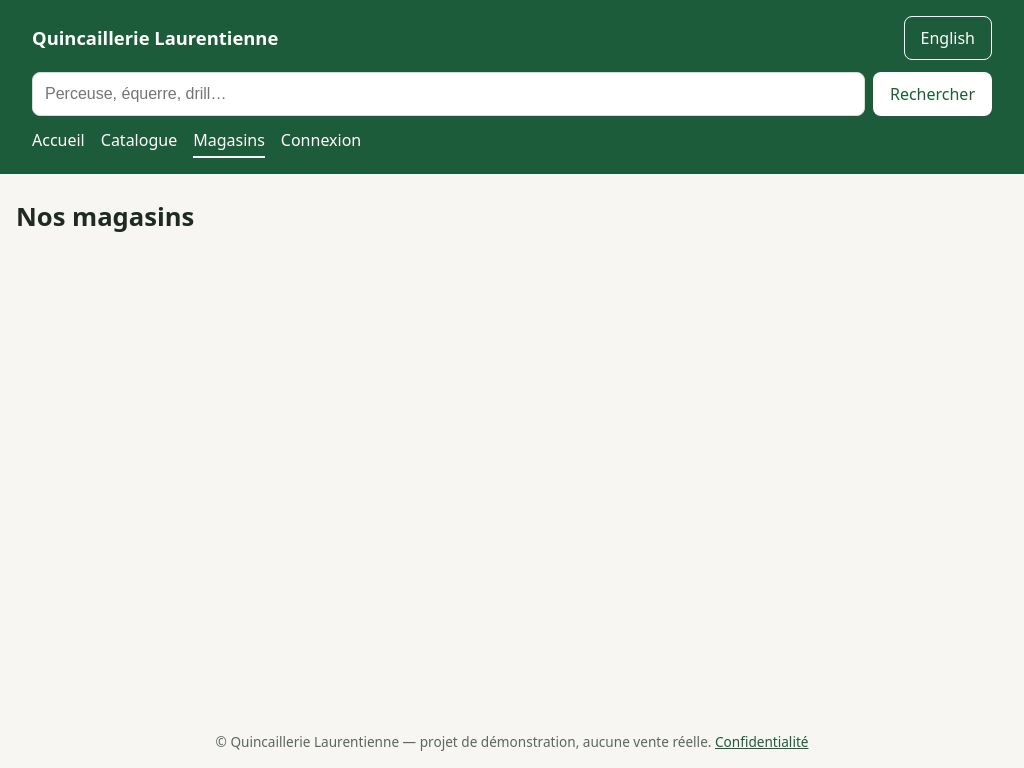
Test: Recherche (A-CAT-03) › lance la recherche depuis l'en-tête et affiche les résultats
Type "  équerre " into the search field named "Rechercher un produit". click: (448, 94)
box: [32,72,865,116]
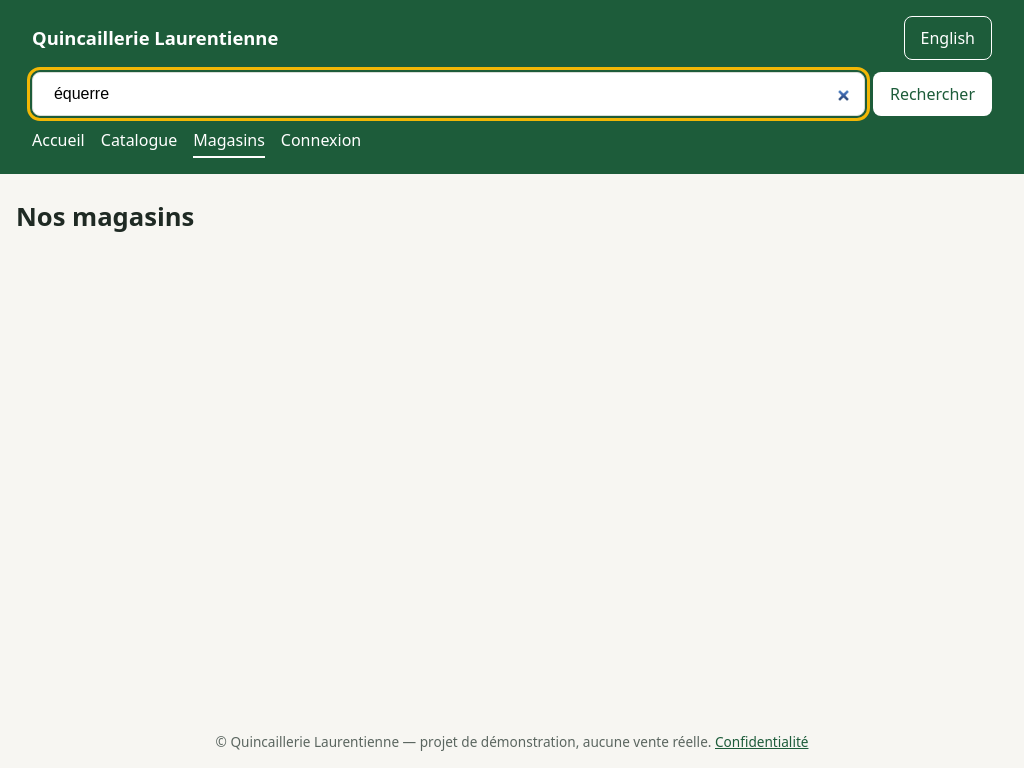
Click the button "Rechercher". click: click(932, 94)
box: [873,72,992,116]
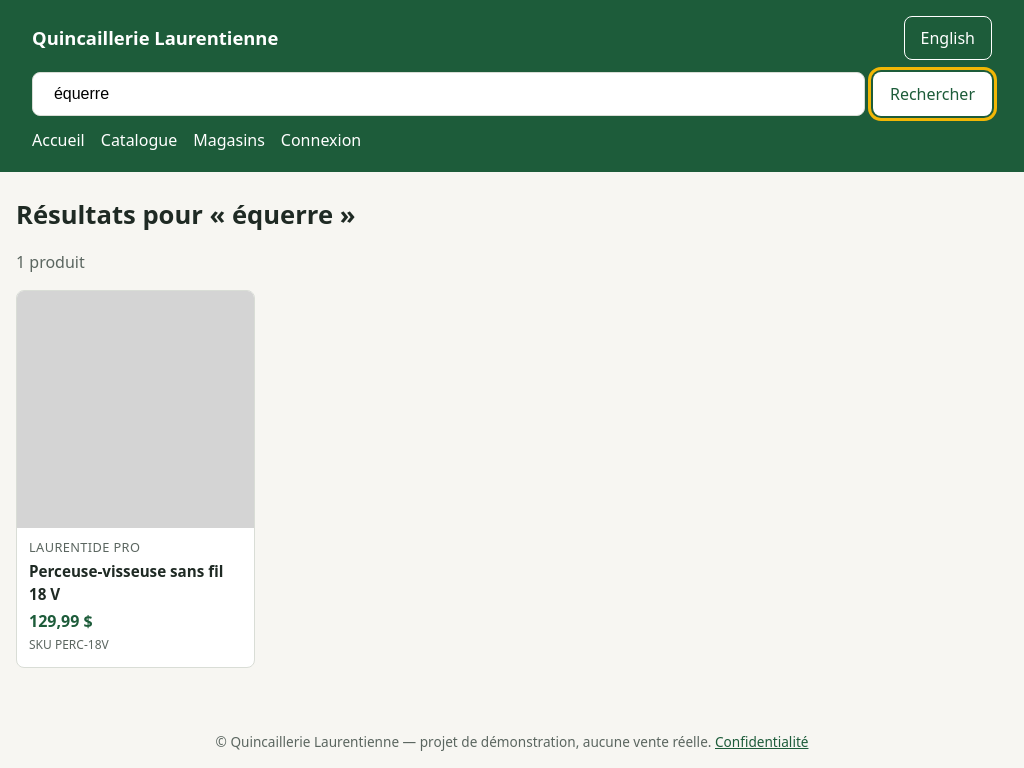
Check: the heading "Résultats pour « équerre »" is shown, box [16,197,356,232]
Check: the heading "Perceuse-visseuse sans fil 18 V" is shown, box [29,560,242,606]
